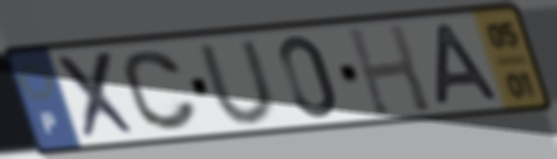0: (276, 33, 340, 122)
A: (433, 20, 505, 109)
C: (119, 48, 202, 134)
H: (343, 21, 436, 119)
U: (193, 36, 283, 127)
X: (52, 48, 145, 144)
